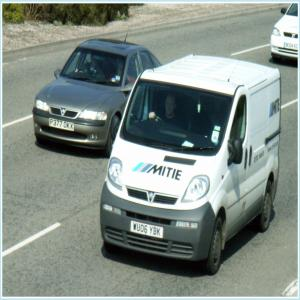Vehicle-registration-plate: (131, 222, 164, 239), (50, 120, 74, 132), (284, 44, 299, 50)
